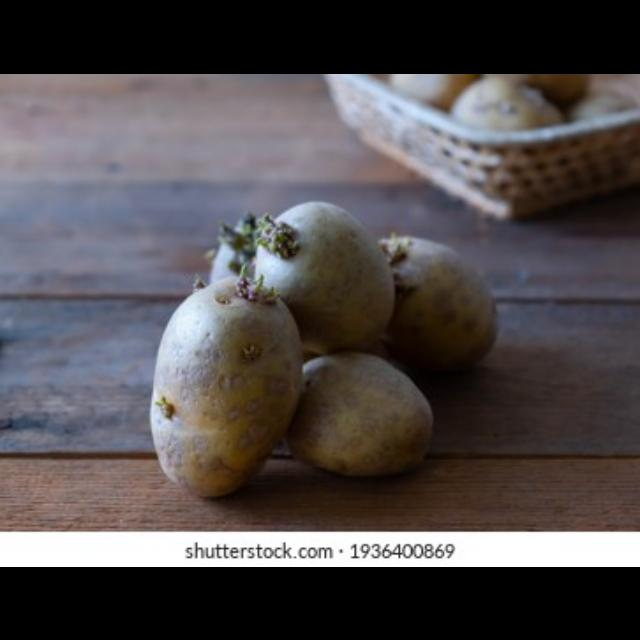Sprouted potato: (151, 276, 313, 502), (189, 198, 405, 362), (360, 221, 498, 395)
